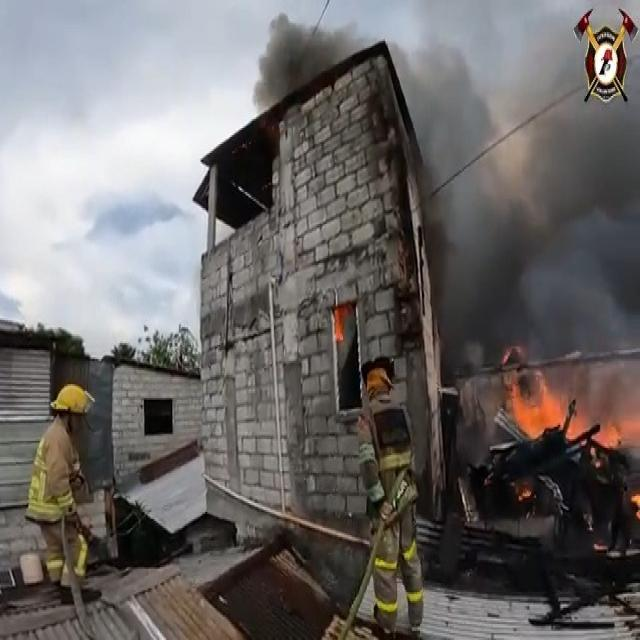Fire: (502, 345, 640, 449), (332, 302, 350, 343)
Smoke: (395, 0, 640, 377), (256, 12, 362, 102)
